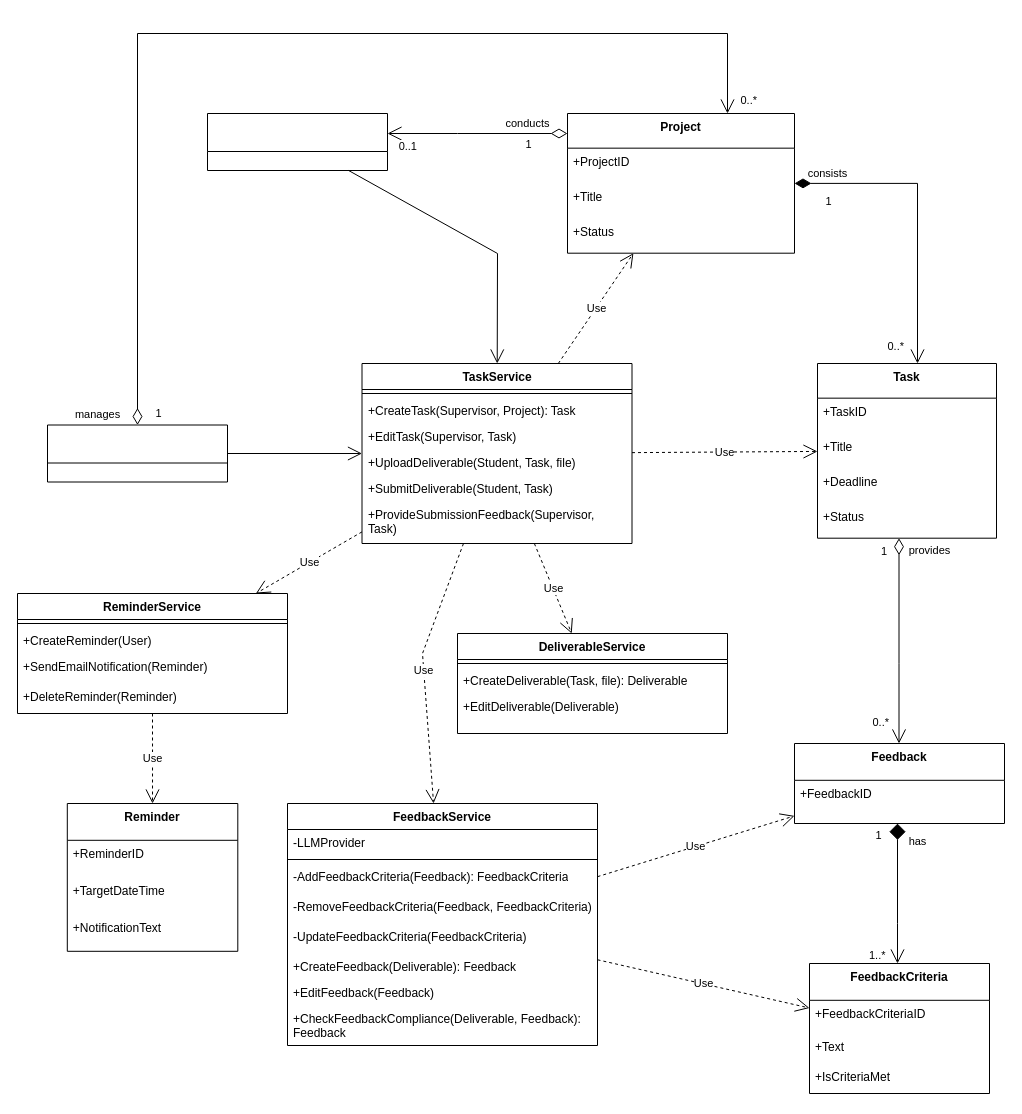
The diagram is 1022 pixels wide and 1114 high, and some of its shapes have lost their labels. The centre of each missing label's shape, as x and y in pixels:
Student: pixel 297 141
Supervisor: pixel 137 453
